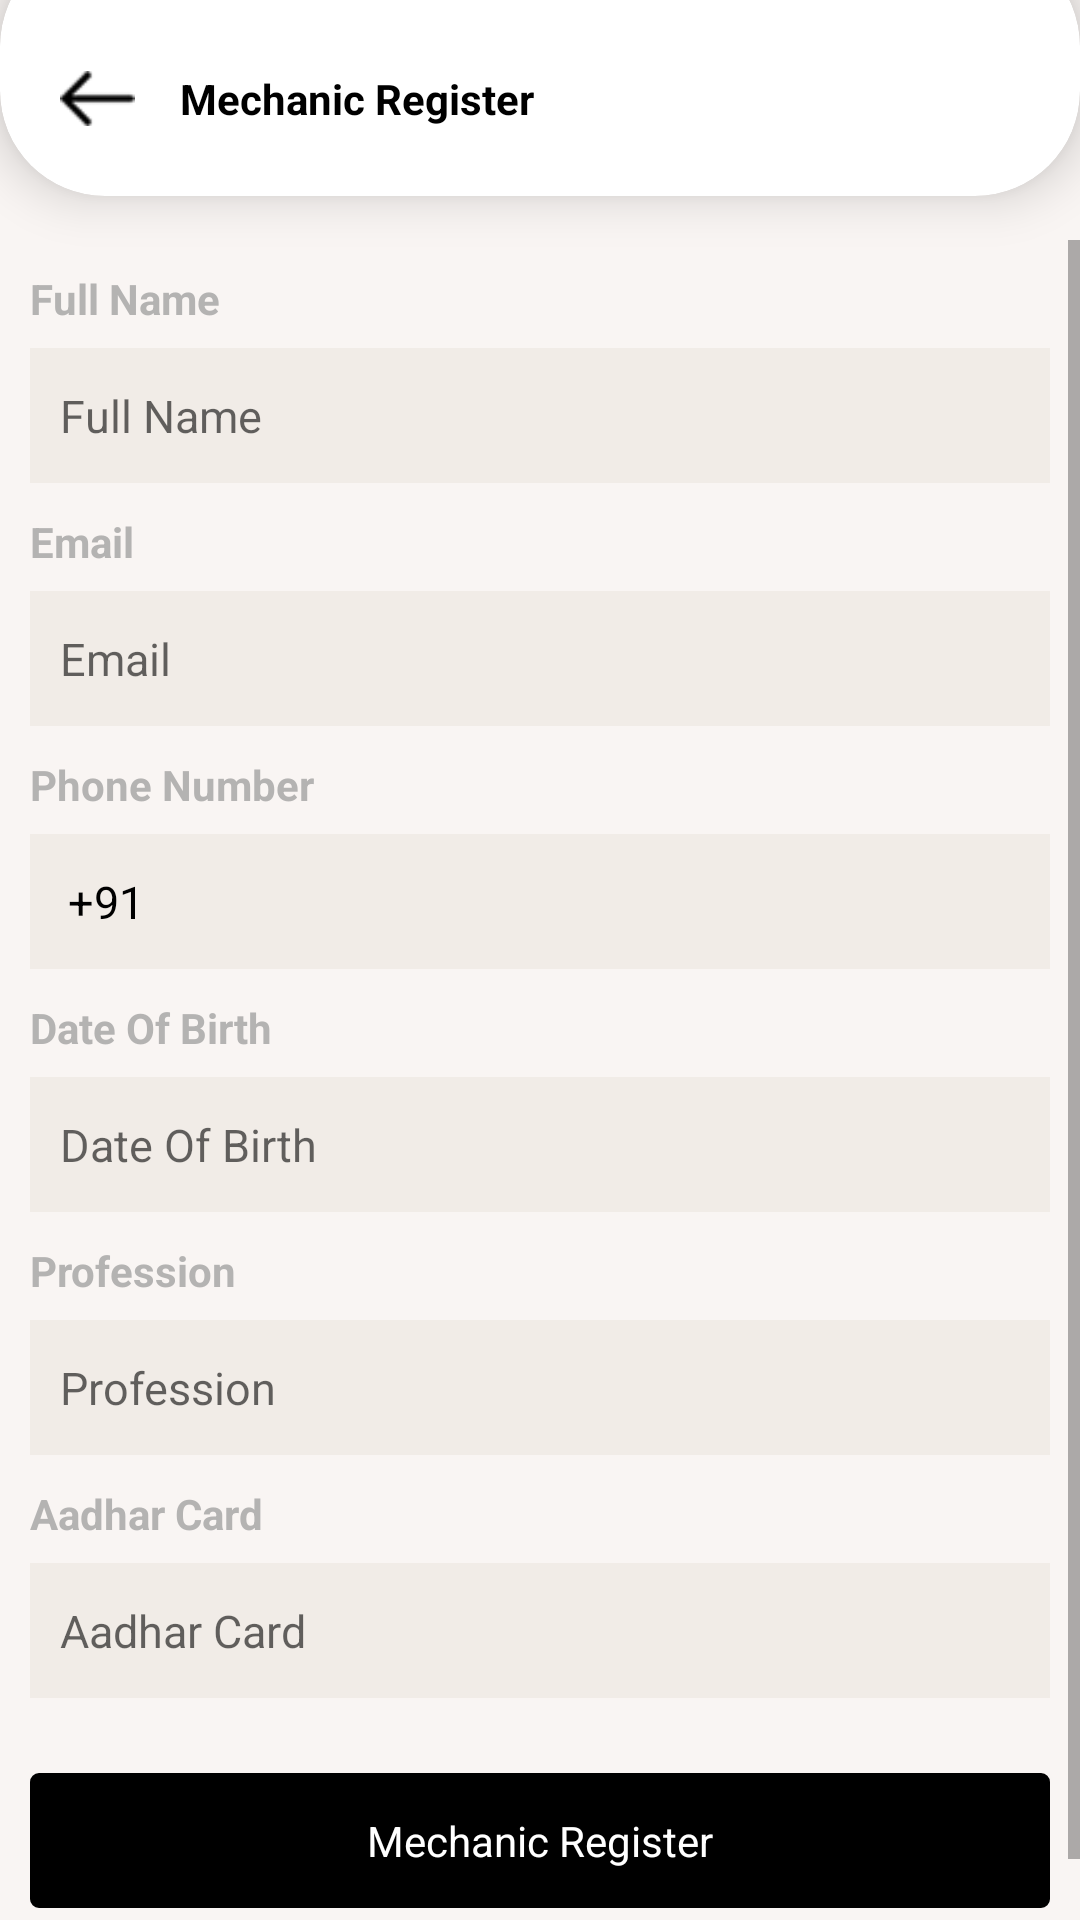

Screen size 1080px×1920px. Icon name, then its center in pixels as point (x, y):
back: point (97, 98)
